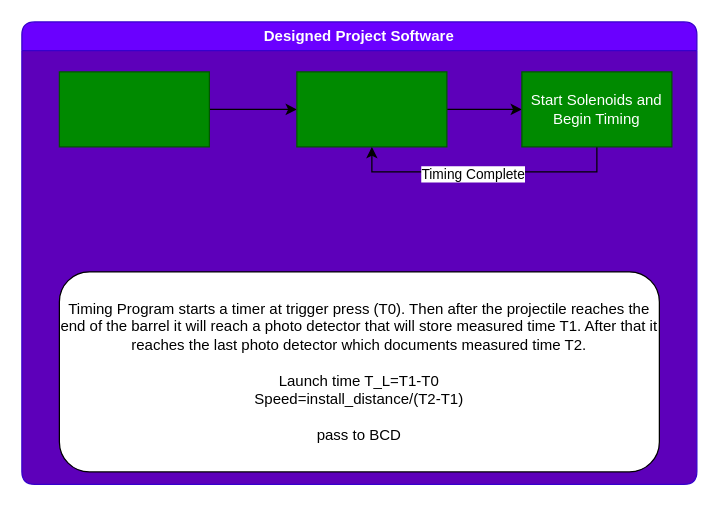
This 719x506 diagram has some shape labels left out. Here are the shapes that lost their labels. From the top down, the centre of each, then its label:
At point (133, 109): "Initilization".
At point (371, 109): "Wait for Trigger".
